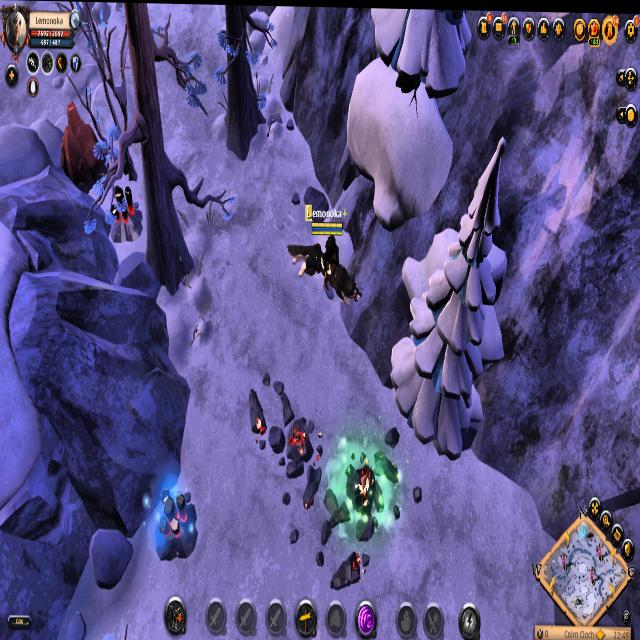ore tier 5: (153, 482, 197, 559)
